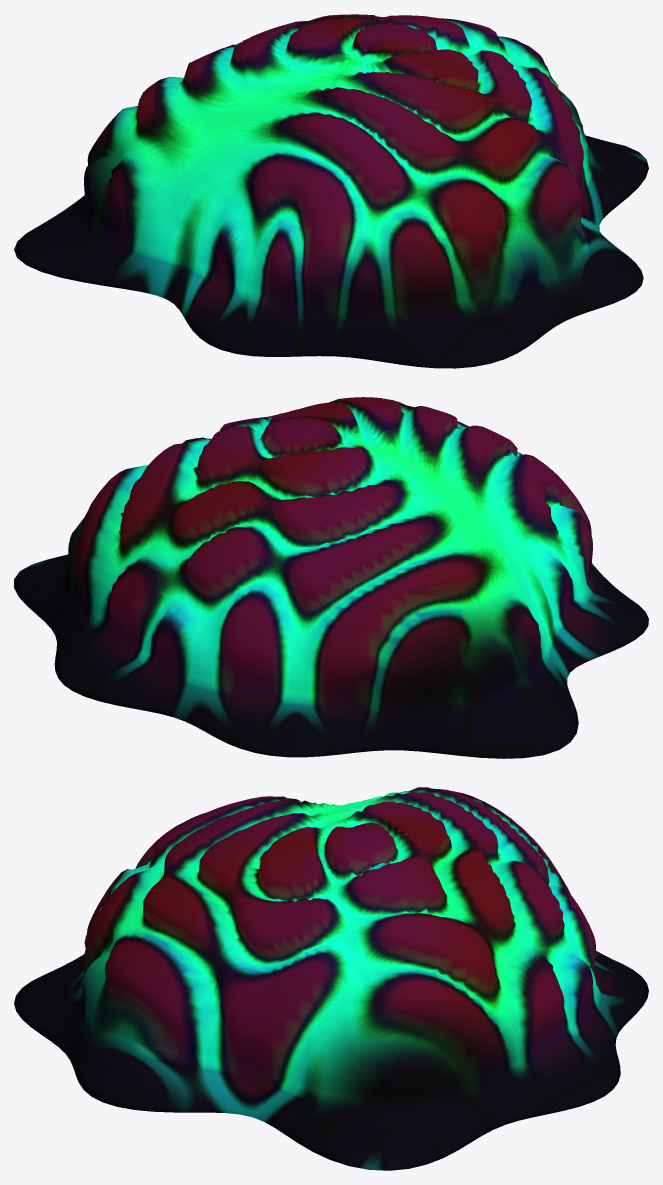
The model's file is coral-brain-diploria.glb.
3 renders of one model, top to bottom at view 1: azimuth 30°, elevation 25°; view 2: azimuth 150°, elevation 25°; view 3: azimuth 270°, elevation 25°, orthographic. The views are drawn at different scales.
Visible parts, largest first — view 1: Coral_Brain_Diploria; view 2: Coral_Brain_Diploria; view 3: Coral_Brain_Diploria.
Part boxes in pixels (x1=…): Coral_Brain_Diploria: x1=14, y1=14, x2=648, y2=368; Coral_Brain_Diploria: x1=14, y1=397, x2=648, y2=758; Coral_Brain_Diploria: x1=14, y1=787, x2=648, y2=1170.
Bounding box in the file's own units: 0.2557 × 0.0822 × 0.2343.
Materials: 1 (1 with a texture image).
